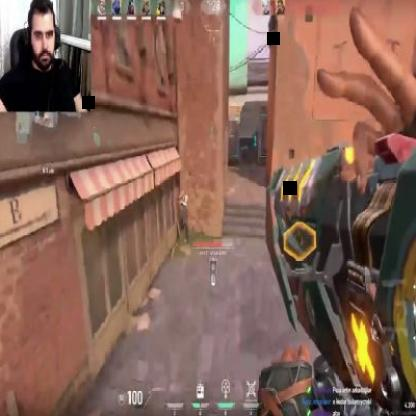enemy: (176, 187, 188, 241)
enemy_head: (180, 188, 184, 198)
